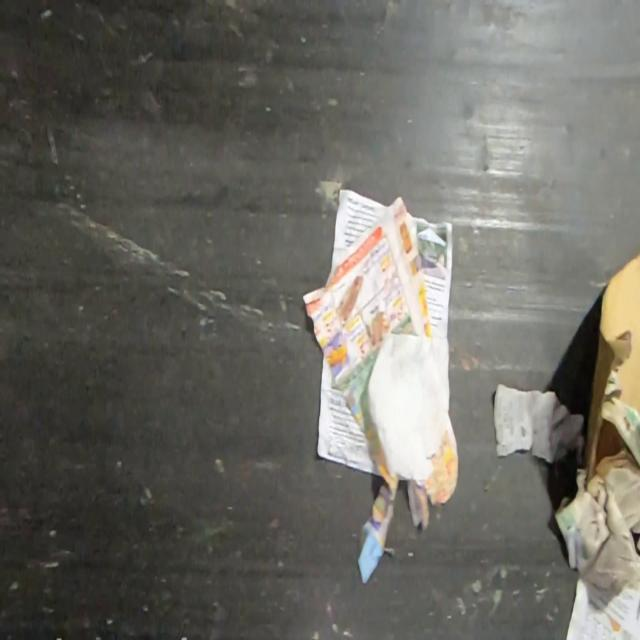cardboard: (584, 249, 640, 489)
